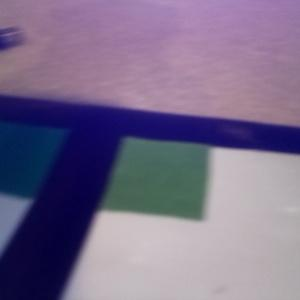bottom_left: (1, 105, 101, 199)
bottom_right: (68, 116, 209, 220)
